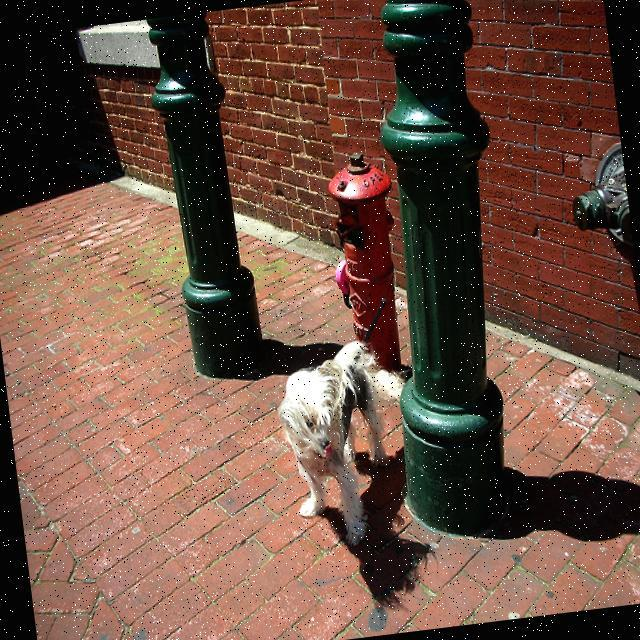fire_hydrant: (322, 144, 408, 366), (569, 142, 634, 258)
